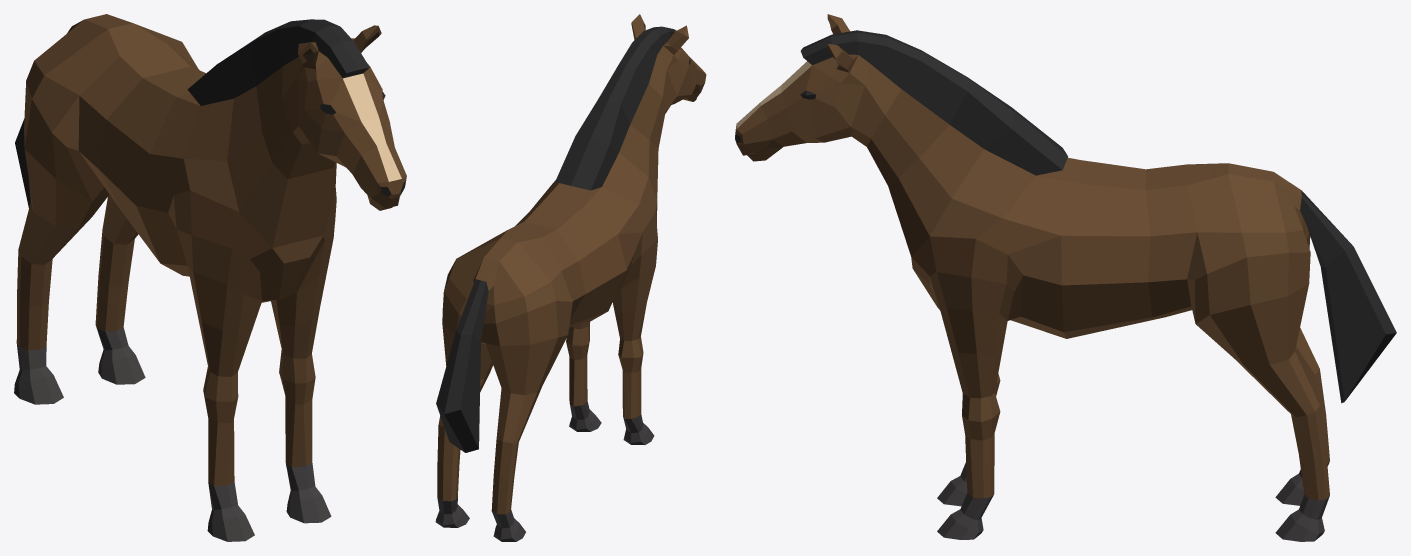
File: animals_horse.fbx
The picture shows the model from 3 angles, left to right: view 1: azimuth 30°, elevation 25°; view 2: azimuth 150°, elevation 25°; view 3: azimuth 270°, elevation 25°; orthographic projection. The views are drawn at different scales.
Visible parts, largest first — view 1: animals_horse; view 2: animals_horse; view 3: animals_horse.
Boxes of the visible parts, left/top/right/bottom form: animals_horse: left=14, top=14, right=406, bottom=541; animals_horse: left=435, top=14, right=706, bottom=541; animals_horse: left=735, top=14, right=1396, bottom=541.
Bounding box in the file's own units: 52.32 × 163 × 200.
